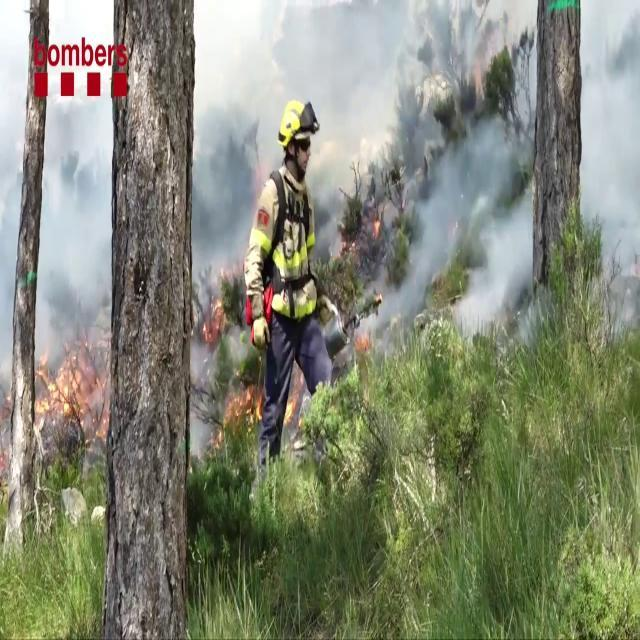Fire: (36, 341, 111, 437)
Smoke: (192, 0, 522, 305), (0, 18, 112, 426), (579, 1, 640, 330)
